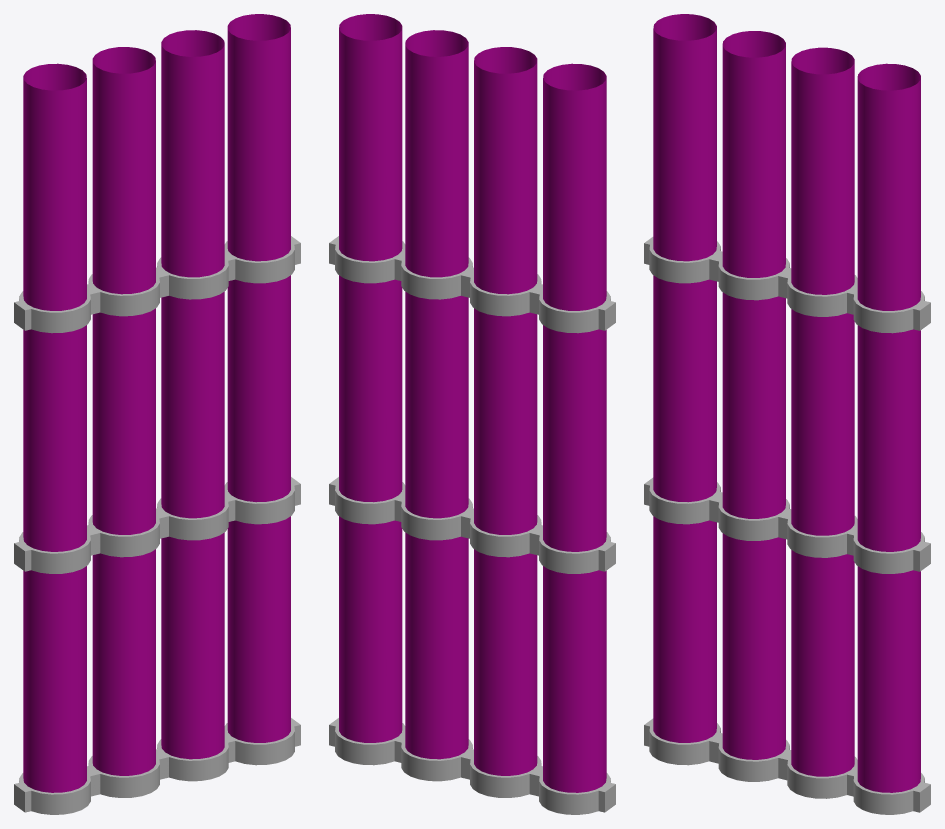
The model's file is pro_too_cablesStraight.fbx.
The picture shows the model from 3 angles, left to right: view 1: azimuth 30°, elevation 25°; view 2: azimuth 150°, elevation 25°; view 3: azimuth 330°, elevation 25°; orthographic projection.
Visible parts, largest first — view 1: pro_too_cablesStraight; view 2: pro_too_cablesStraight; view 3: pro_too_cablesStraight.
Boxes of the visible parts, box(x1,y1,x2,y2) form: pro_too_cablesStraight: box(14, 14, 300, 814); pro_too_cablesStraight: box(329, 14, 615, 814); pro_too_cablesStraight: box(644, 14, 930, 814).
Size of the model in its own units: 1.2 by 3 by 0.2701.
